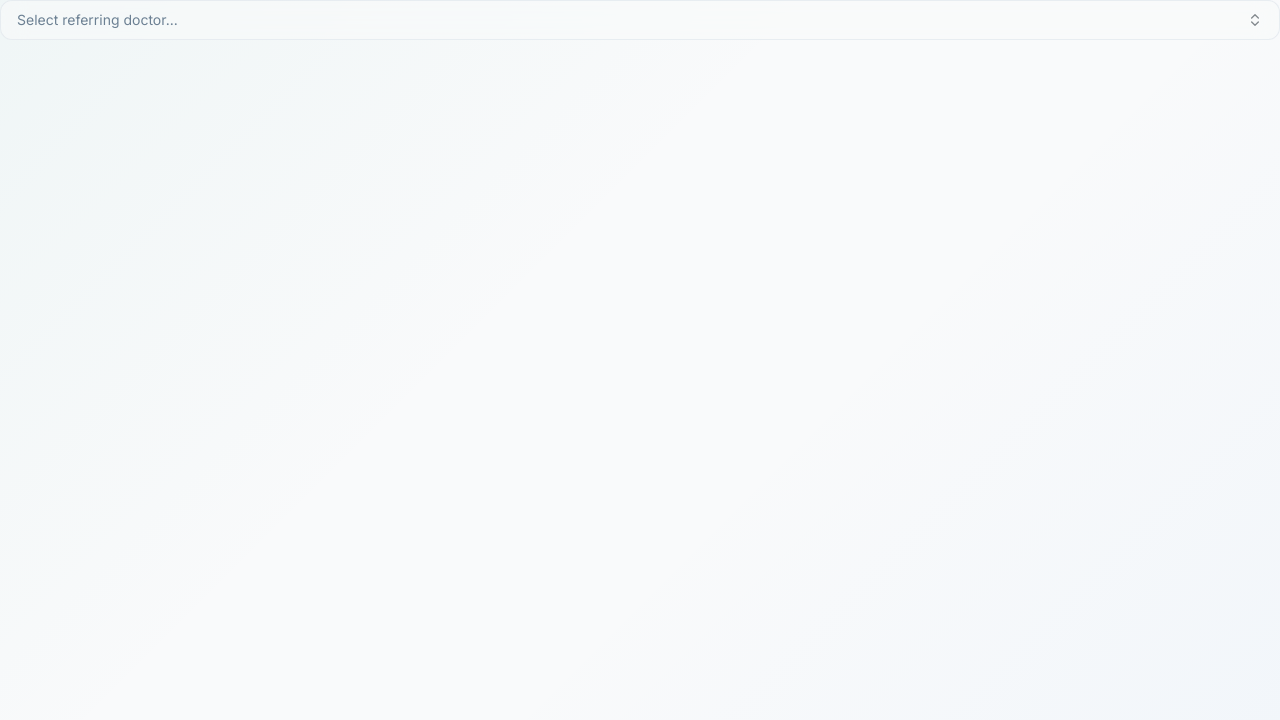
ReferringDoctorPicker › lists internal and external doctors together
Click the dropdown at (97, 20), box x1=0 y1=0 x2=1279 y2=40
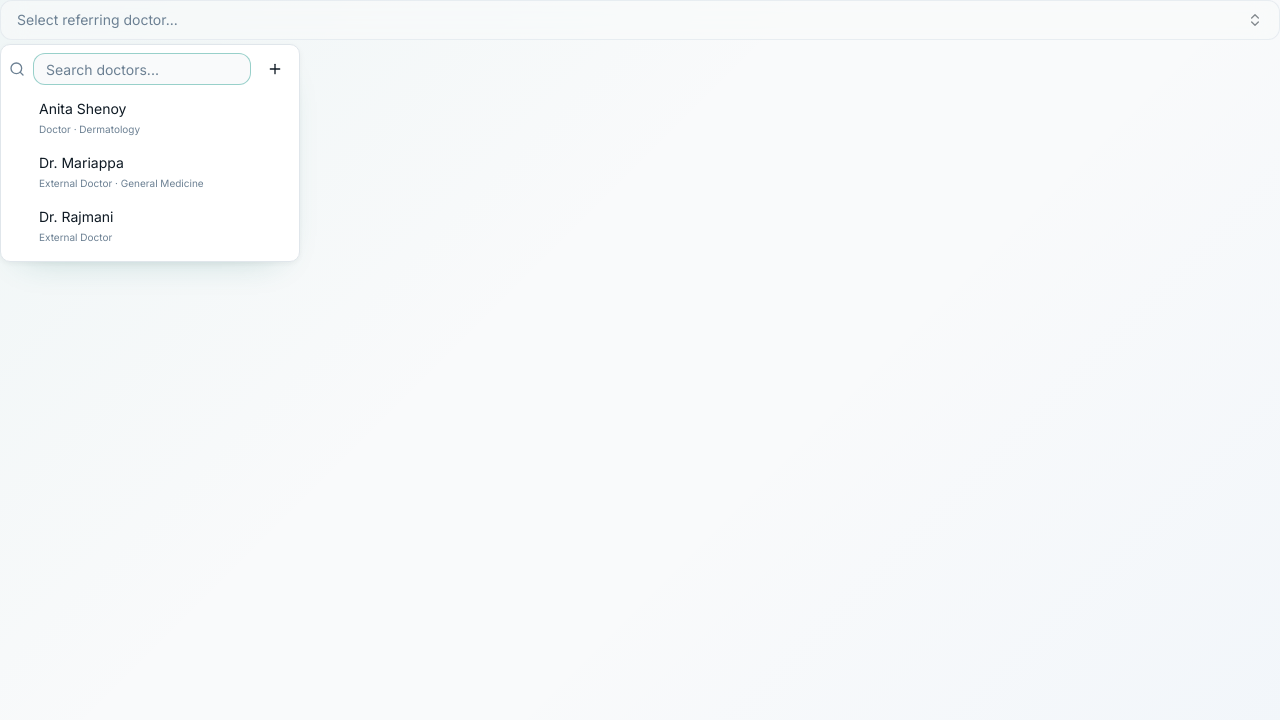
Expected: the field with placeholder "Search doctors..." is shown, x1=33 y1=53 x2=251 y2=85
Expected: the text "Anita Shenoy" is shown, x1=39 y1=100 x2=126 y2=117
Expected: the text "Dr. Mariappa" is shown, x1=39 y1=154 x2=124 y2=171
